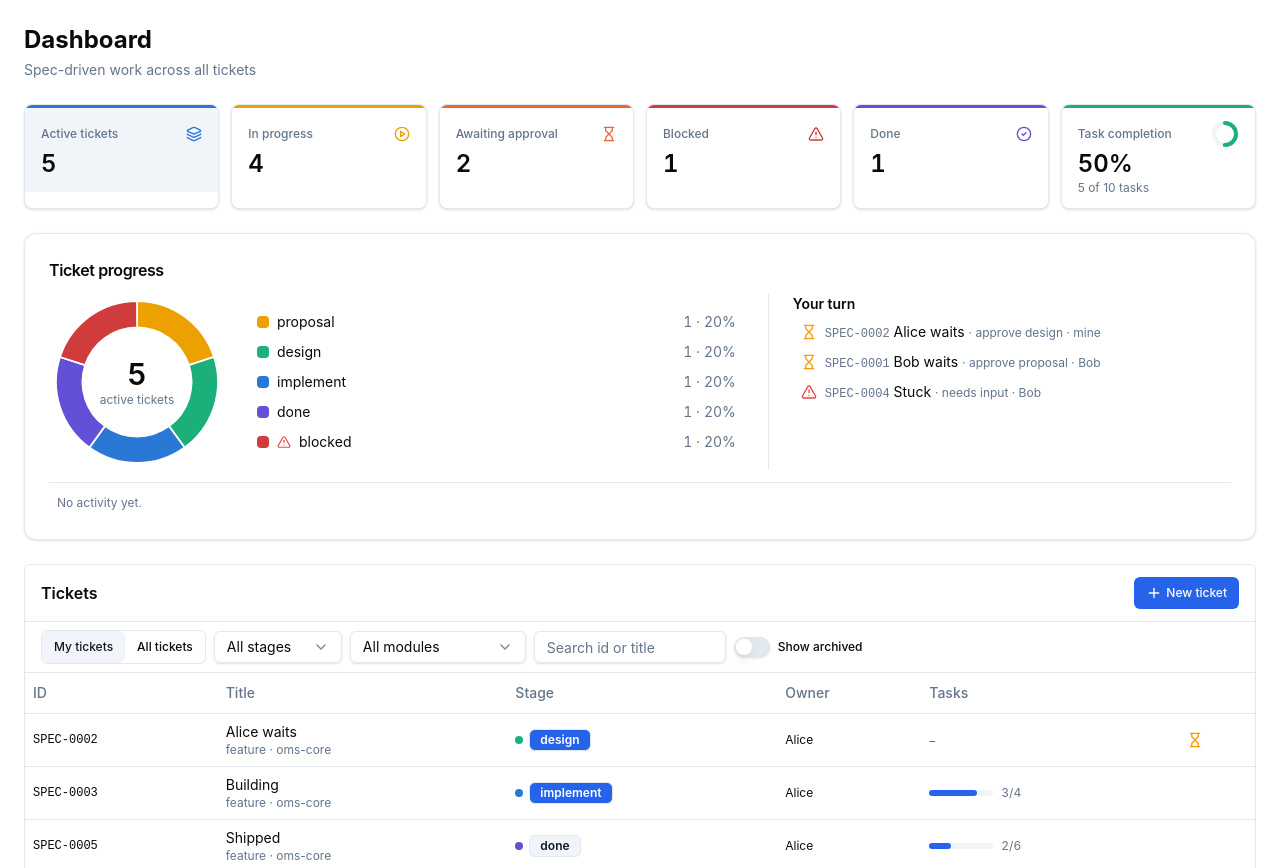
Scenario: Dashboard › the Active, In progress and Awaiting approval tiles filter the table; Task completion does not
The image size is (1280, 868).
// Active tickets clears the stage filter and shows everyone's tickets.
Click the button "Active tickets 5".
click(122, 150)  # box [25, 108, 218, 192]
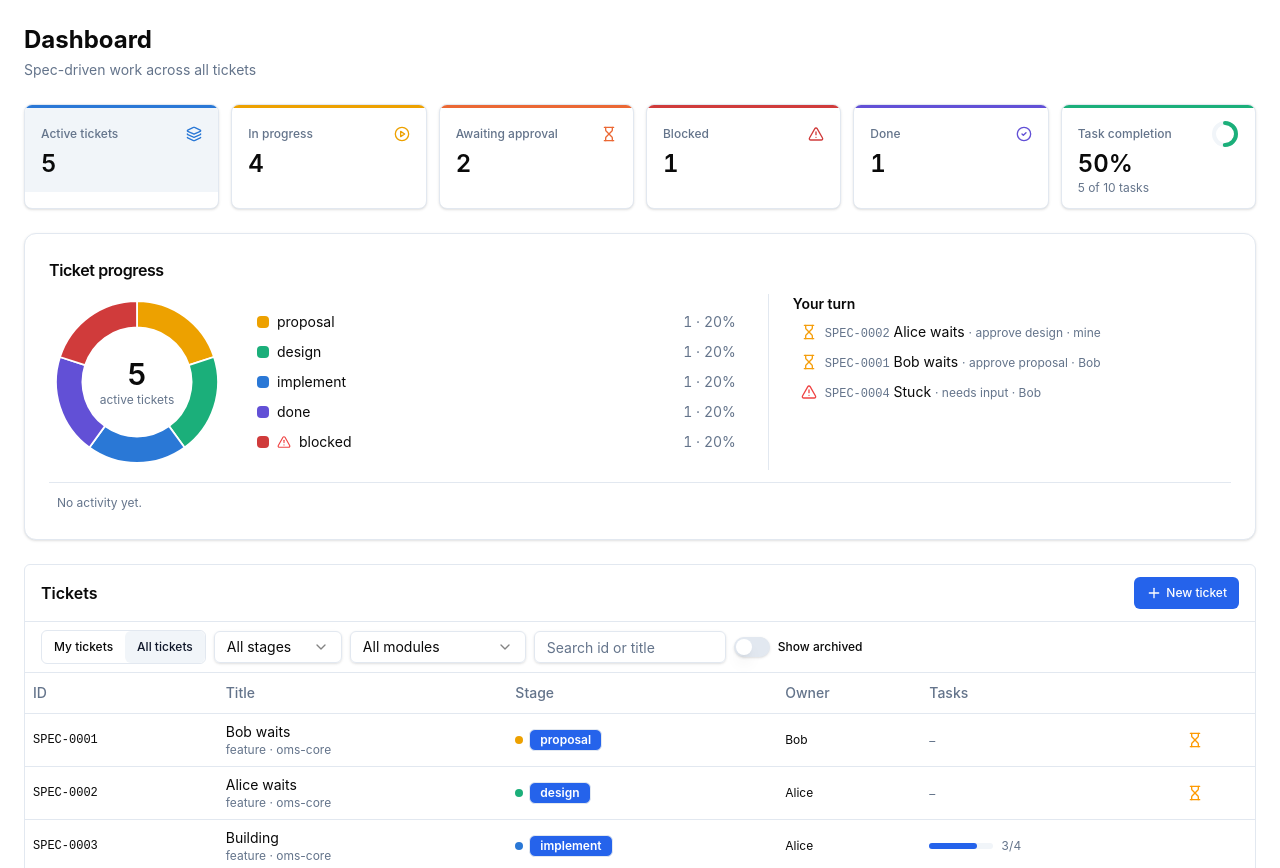
// In progress: every non-done ticket, blocked included.
Click the button "In progress 4".
click(329, 150)  # box [232, 108, 426, 192]
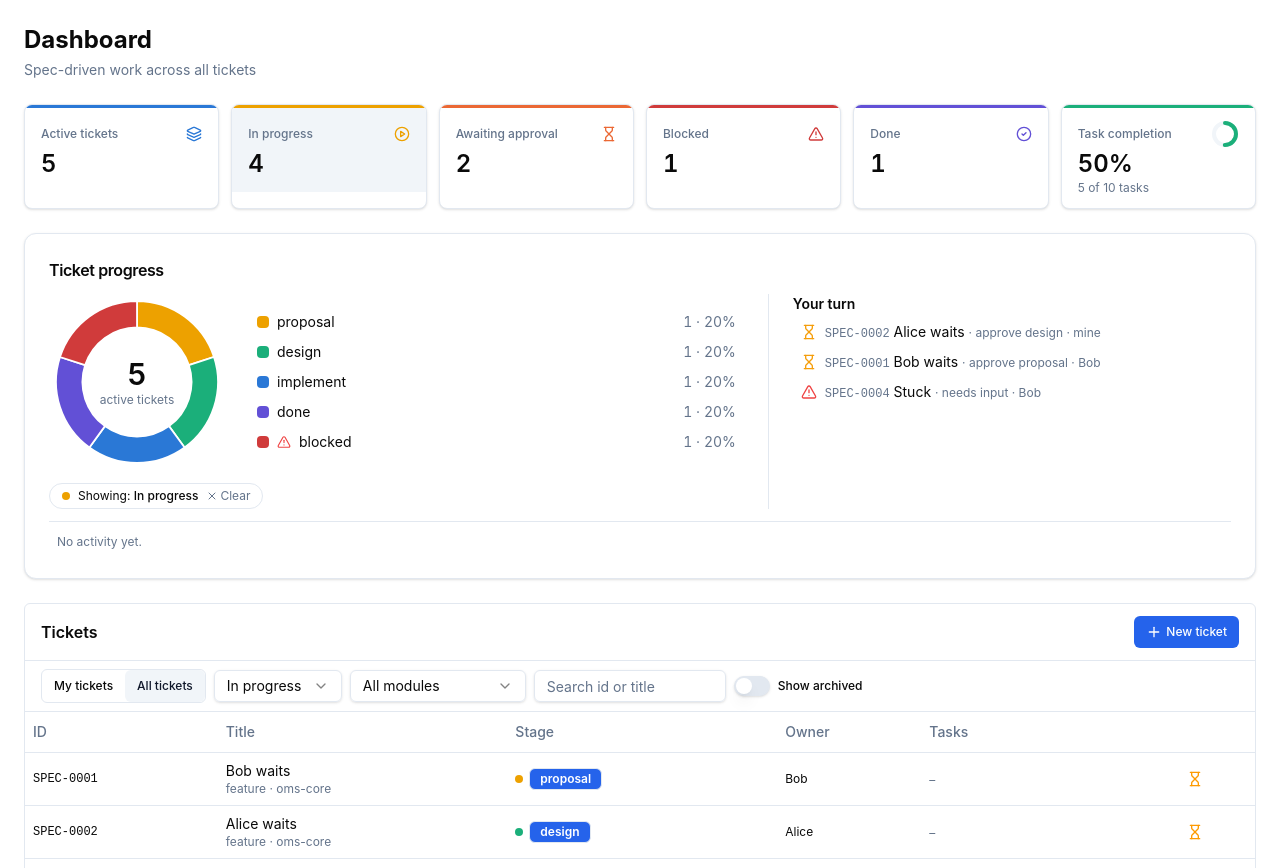
Now the element with test id "stage-filter-chip" shows "In progress", box [134, 488, 198, 503]
// Awaiting approval: tickets waiting on a stage approval.
Click the button "Awaiting approval 2".
click(536, 150)  # box [440, 108, 633, 192]
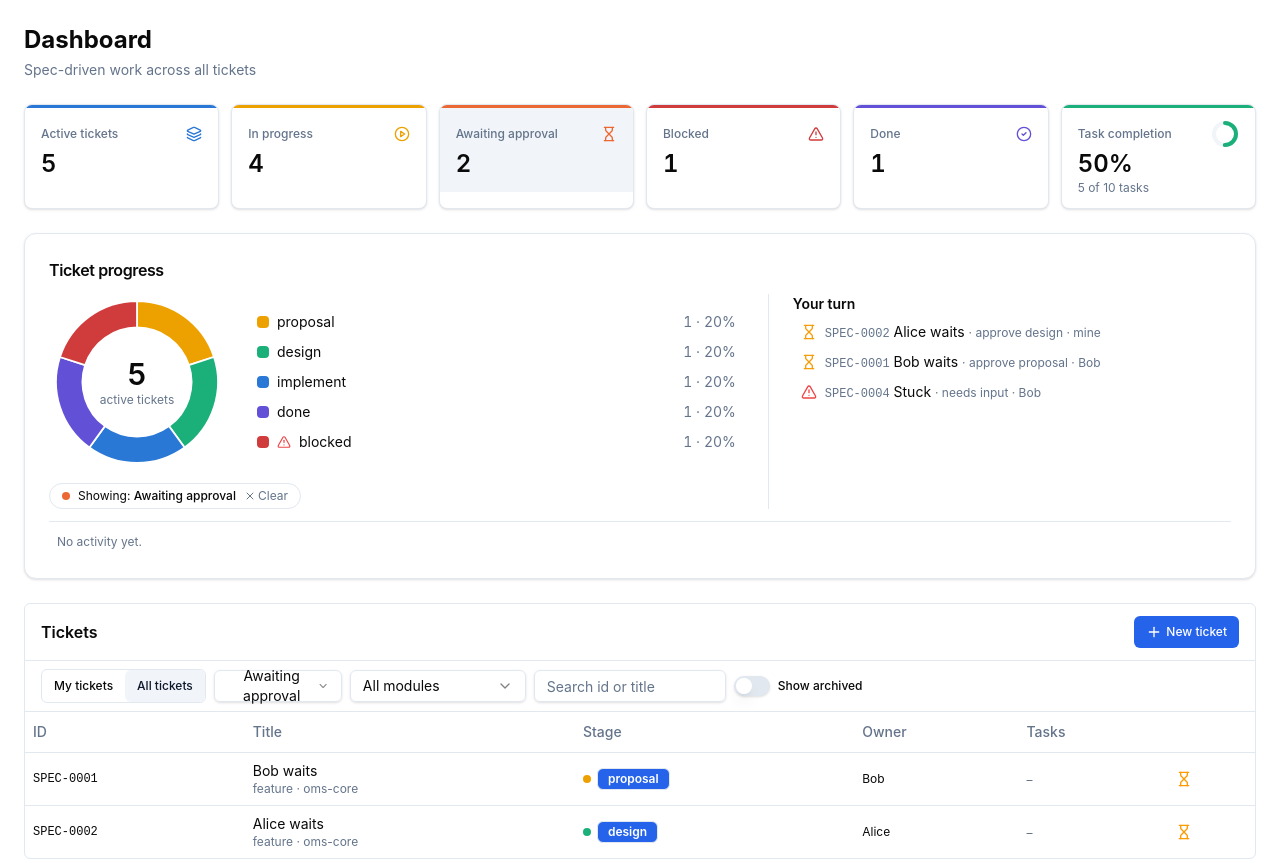
Now the element with test id "stage-filter-chip" shows "Awaiting approval", box [134, 488, 236, 503]
